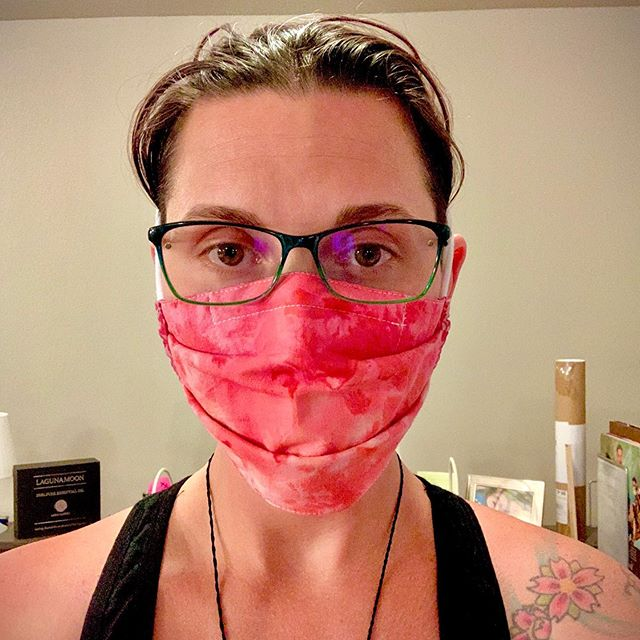homemade: (155, 280, 453, 508)
